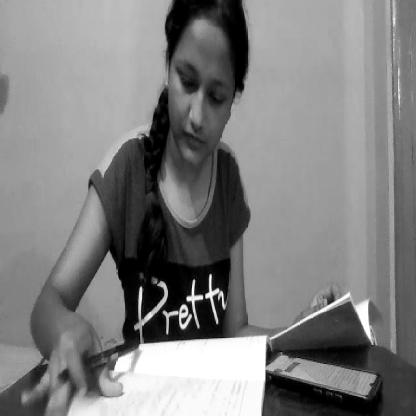Normal: (154, 0, 254, 182)
